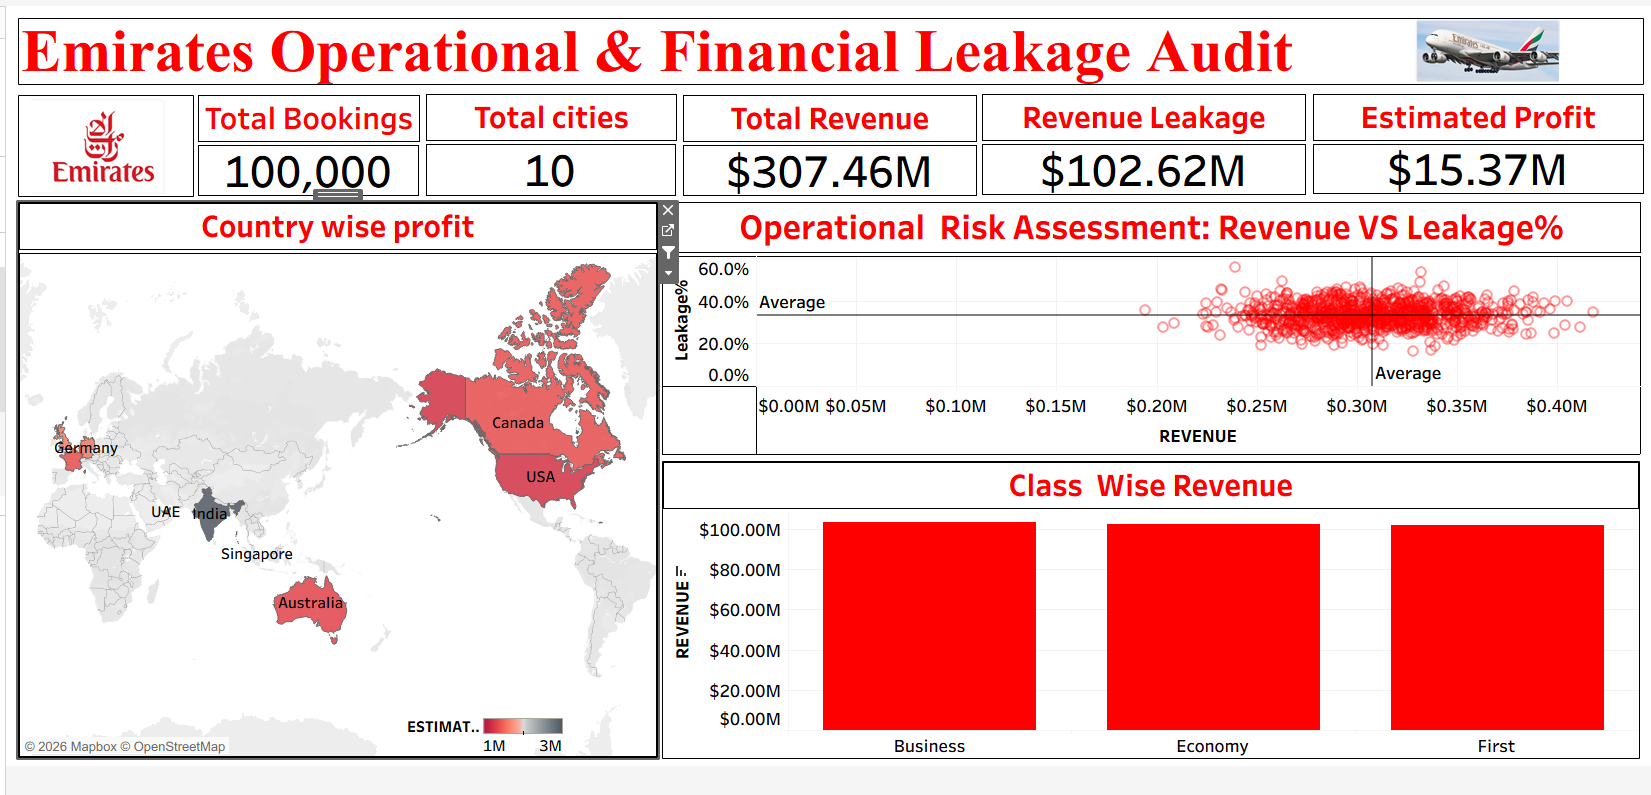

This screenshot's page, from the dashboard's own definition file:
{"tool":"tableau","page":{"name":"Dashboard 1","canvas":[1000,1000],"units":"permille","ordinal":0},"visuals":[{"type":"title","box":[4.9,10.5,990.3,98.7]},{"type":"image","param":"Image/11.png","box":[803.9,17.1,187,82.9]},{"type":"worksheet","title":"Sheet 6","mark":"Automatic","box":[254.6,115.8,152.1,134.2]},{"type":"worksheet","title":"Sheet 10","mark":"Automatic","box":[591.5,115.8,196.4,132.9]},{"type":"worksheet","title":"Sheet 4","mark":"Automatic","box":[792.1,115.8,200.6,131.6]},{"type":"image","param":"Image/emirates.png","box":[7.3,117.1,106.7,134.2]},{"type":"worksheet","title":"Sheet 2","mark":"Automatic","box":[116.4,117.1,134.6,132.9]},{"type":"worksheet","title":"Sheet 1","mark":"Automatic","box":[410.3,117.1,178.2,132.9]},{"type":"worksheet","title":"Sheet 7","mark":"Multipolygon","box":[7.3,257.9,387.9,731.6]},{"type":"worksheet","title":"Sheet 11","mark":"Automatic","rows":["Calculation_1747191167680513"],"cols":["Ticket_Price"],"box":[397.7,257.9,593.2,332.9]},{"type":"worksheet","title":"Sheet 8","mark":"Automatic","rows":["Ticket_Price"],"cols":["Class"],"box":[397.6,598.7,592.7,392.1]},{"type":"legend","title":"Sheet 7","param":"[federated.116ko3q0cy33i41a3rv1a1u06j09].[sum:Calculation_1720252769239040:qk]","box":[243.1,931.2,96.9,56.1]}]}

Visuals, with their boxes on the dashboard's canvas, which has no fixed pixel size, in thousandths of its width and height (x1, y1, x2, y2). These are canvas units, not pixel positions in the 1651x795 screenshot, which may show the page scaled, cropped or inside an application window:
title: bbox(5, 10, 995, 109)
image: bbox(804, 17, 991, 100)
"Sheet 6" worksheet: bbox(255, 116, 407, 250)
"Sheet 10" worksheet: bbox(592, 116, 788, 249)
"Sheet 4" worksheet: bbox(792, 116, 993, 247)
image: bbox(7, 117, 114, 251)
"Sheet 2" worksheet: bbox(116, 117, 251, 250)
"Sheet 1" worksheet: bbox(410, 117, 588, 250)
"Sheet 7" worksheet (Multipolygon marks): bbox(7, 258, 395, 990)
"Sheet 11" worksheet: bbox(398, 258, 991, 591)
"Sheet 8" worksheet: bbox(398, 599, 990, 991)
"Sheet 7" legend: bbox(243, 931, 340, 987)
